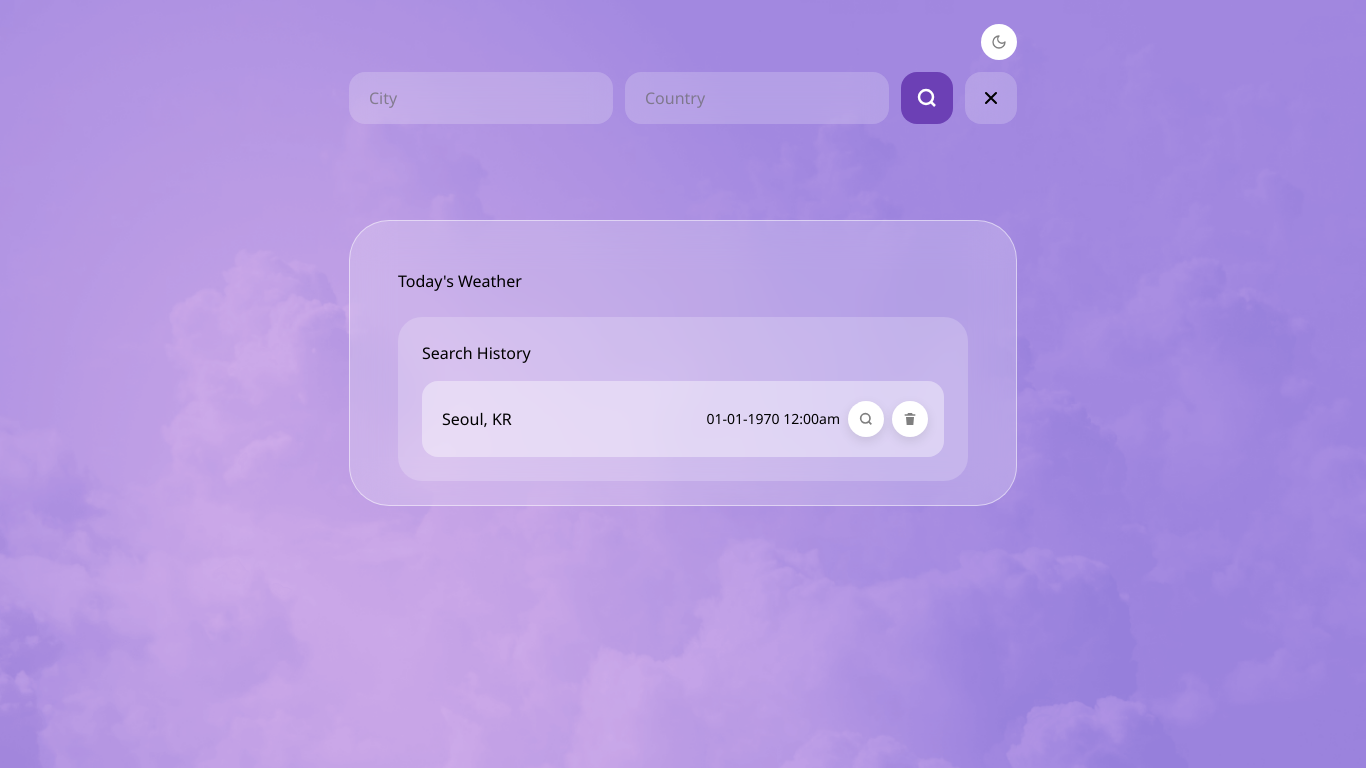
clear button › empties both fields and the error but keeps history
This screenshot has width=1366, height=768.
Type "Tokyo" into the field labelled "City".
click(481, 98); type("Tokyo")  # box left=349, top=72, right=613, bottom=124
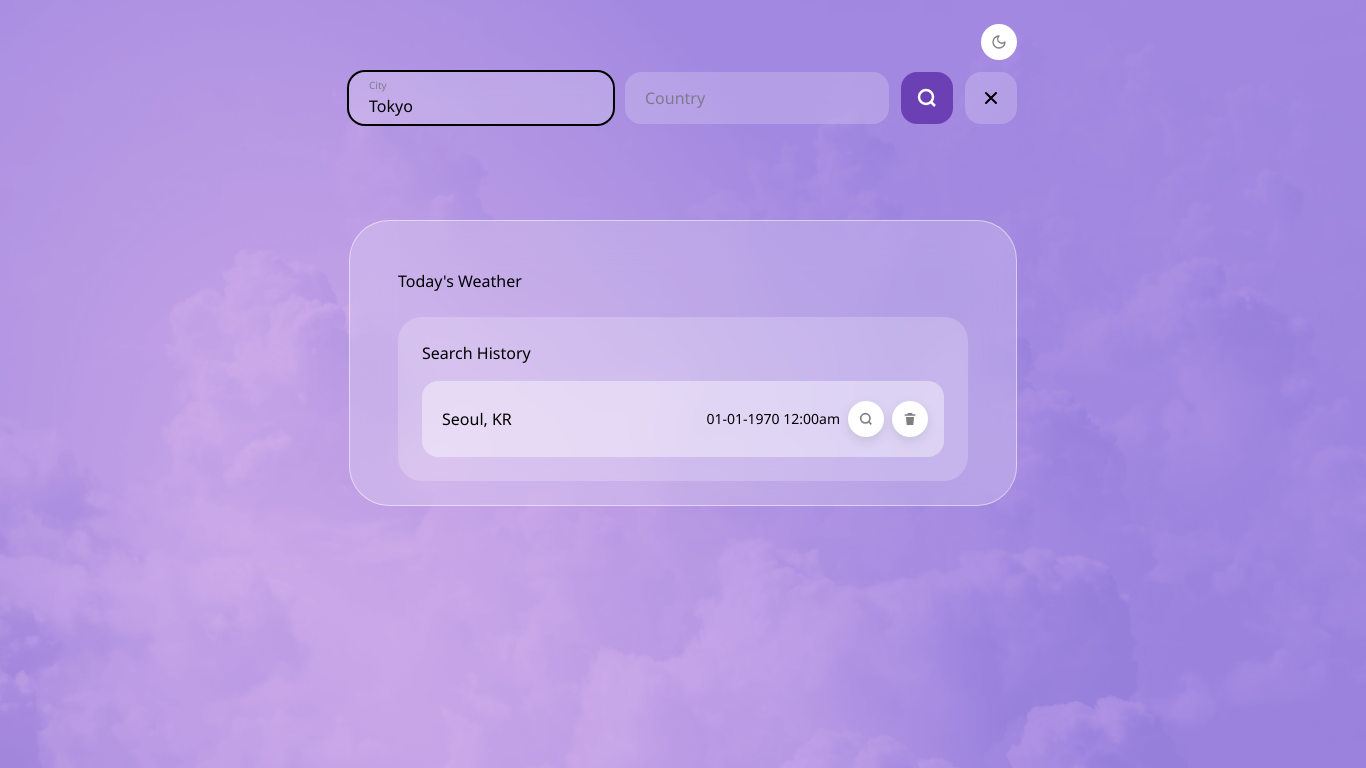
Type "Elpis" into the field labelled "Country".
click(757, 98); type("Elpis")  # box left=625, top=72, right=889, bottom=124
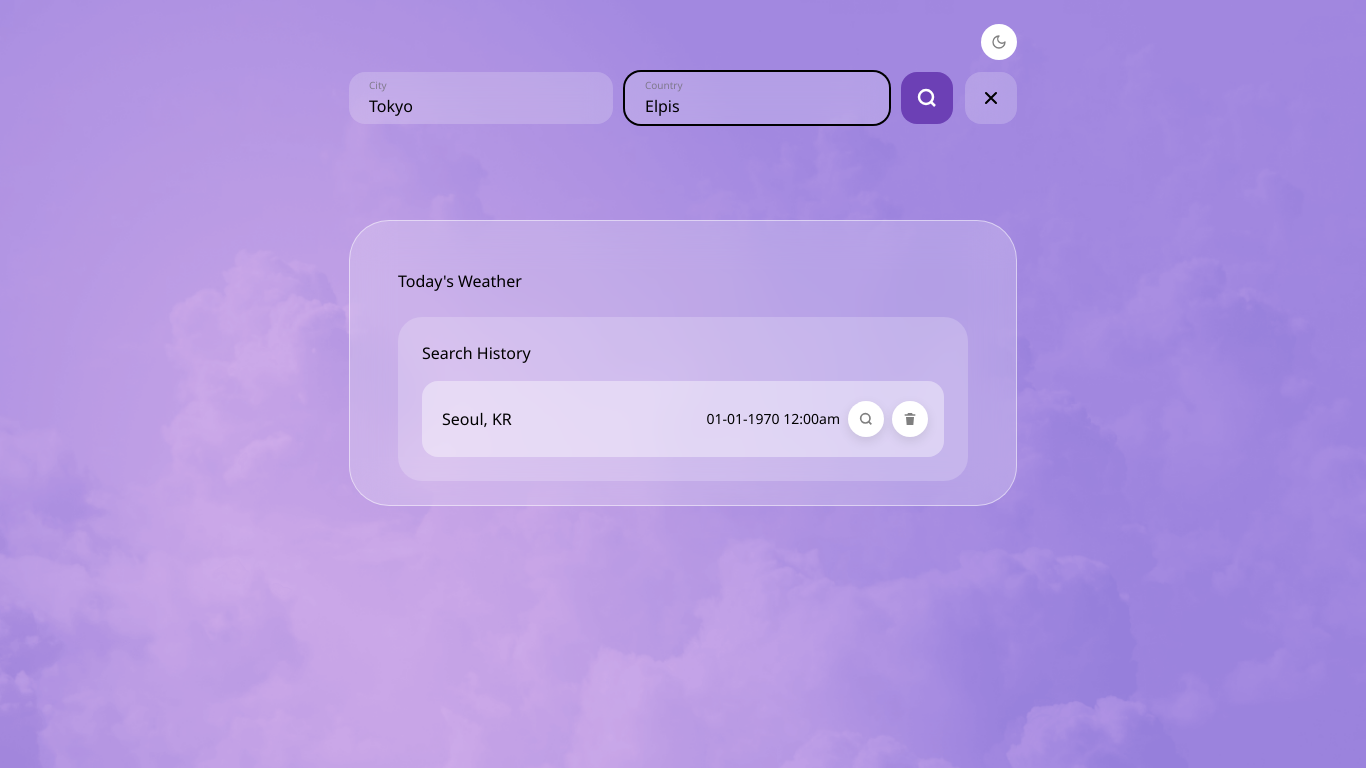
Click the button named "Search".
click(927, 98)  # box left=901, top=72, right=953, bottom=124
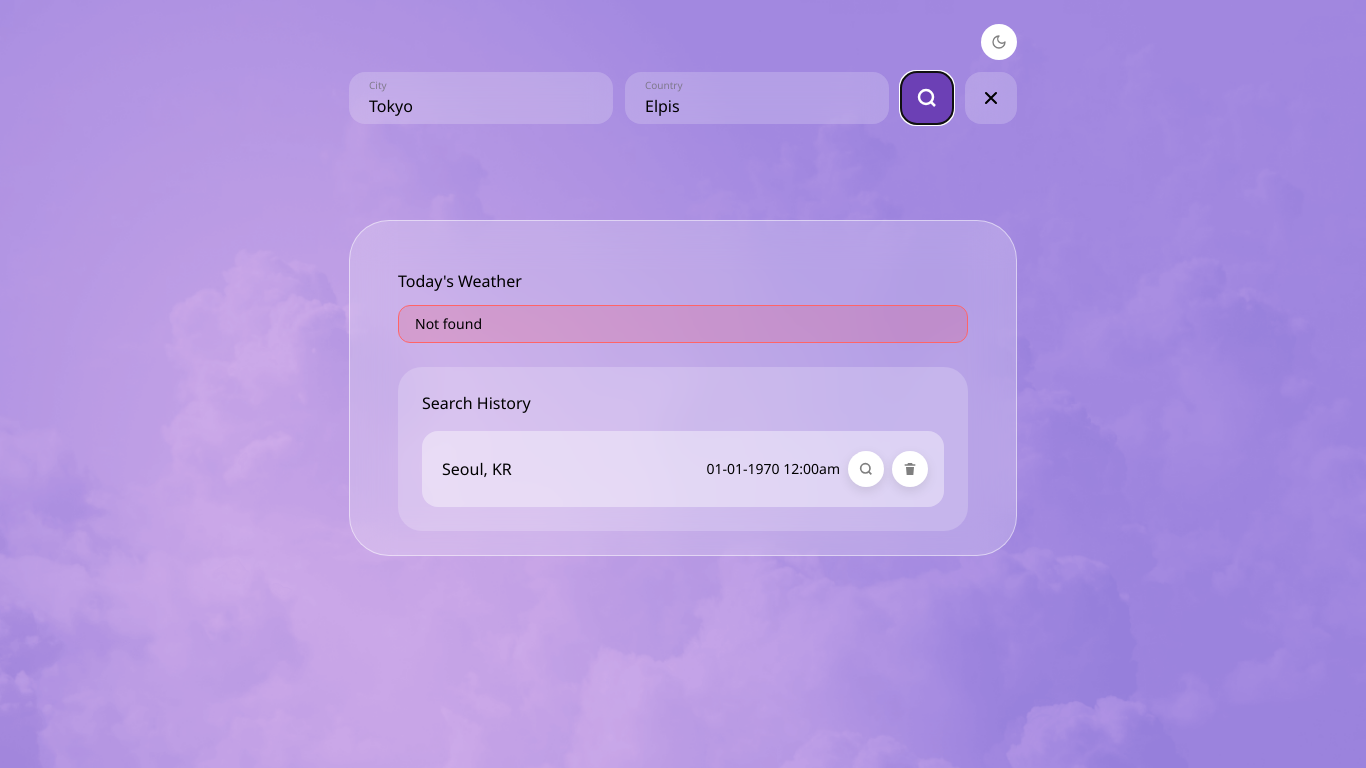
Click the button named "Clear".
click(991, 98)  # box left=965, top=72, right=1017, bottom=124
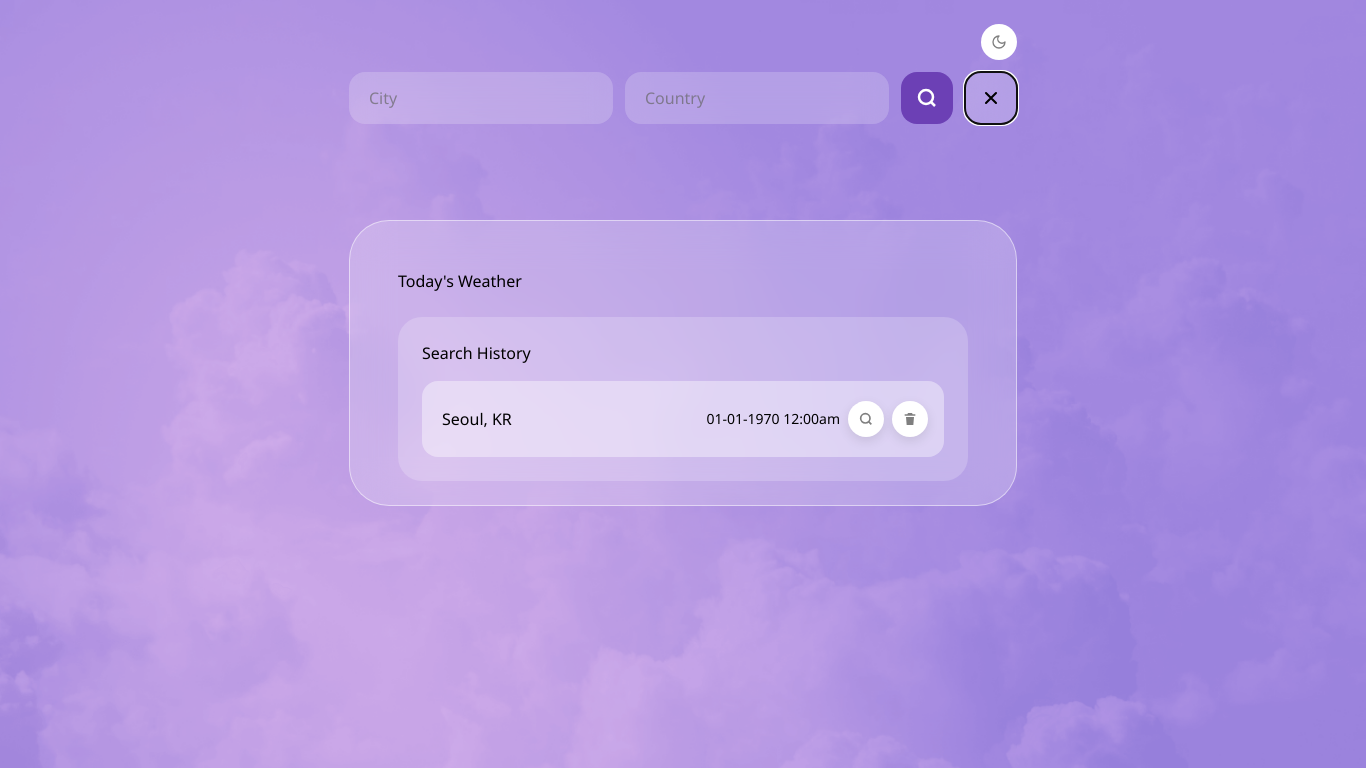
Expected: the field labelled "City" is empty, left=349, top=72, right=613, bottom=124
Expected: the field labelled "Country" is empty, left=625, top=72, right=889, bottom=124
Expected: the message "Not found" is gone
